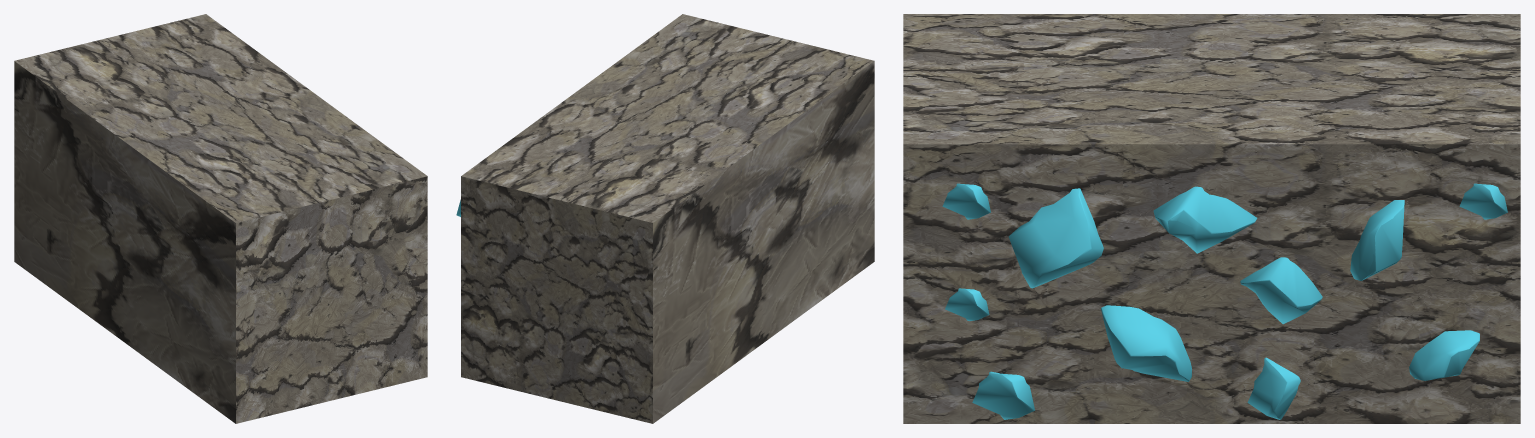
The model's file is cube_diamonds.fbx.
3 renders of one model, left to right at view 1: azimuth 30°, elevation 25°; view 2: azimuth 150°, elevation 25°; view 3: azimuth 270°, elevation 25°, orthographic. The views are drawn at different scales.
Visible parts, largest first — view 1: cube_diamonds.001; view 2: cube_diamonds.001; view 3: cube_diamonds.001.
Part boxes in pixels (x1,y1,x2,y2): cube_diamonds.001: (14,14,427,423); cube_diamonds.001: (456,14,874,423); cube_diamonds.001: (903,14,1520,423).
Size of the model in its own units: 0.3146 by 0.2702 by 0.5403.
